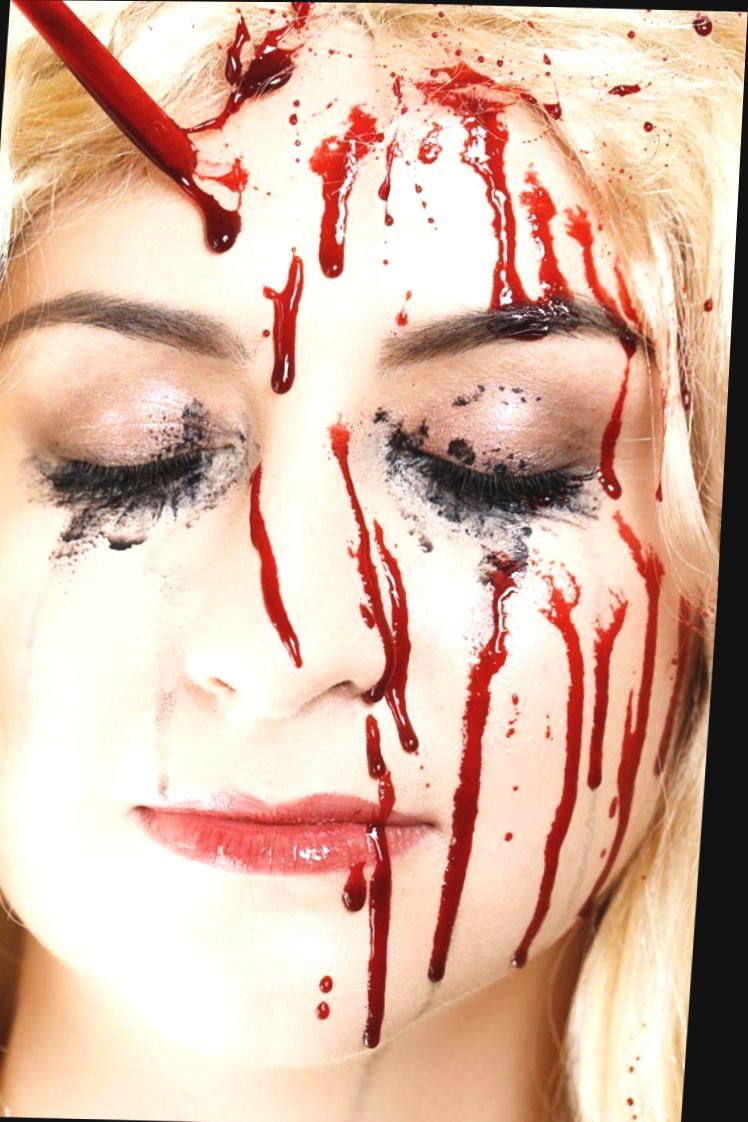Fire: (16, 0, 694, 1048), (255, 464, 309, 668), (610, 81, 644, 93), (694, 12, 713, 33), (326, 1002, 341, 1022), (330, 976, 343, 995), (647, 121, 656, 128)
